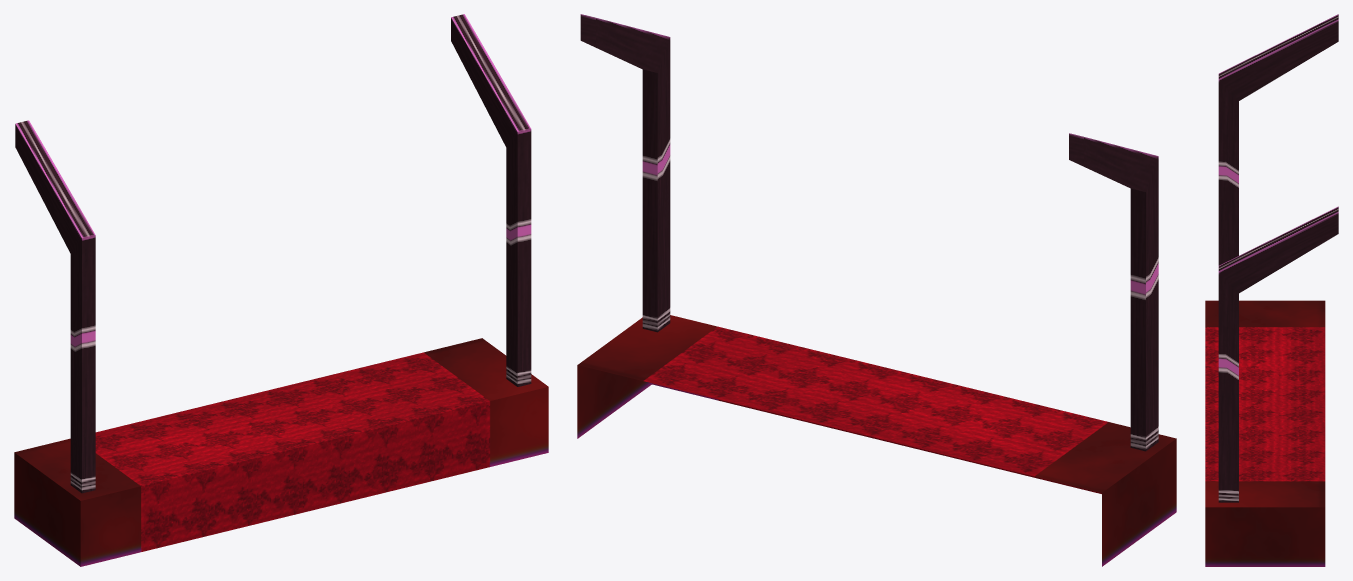
Rendered from Stair.FBX.
3 renders of one model, left to right at view 1: azimuth 30°, elevation 25°; view 2: azimuth 150°, elevation 25°; view 3: azimuth 270°, elevation 25°, orthographic. The views are drawn at different scales.
Visible parts, largest first — view 1: Stairs; view 2: Stairs; view 3: Stairs.
Part boxes in pixels (box(x1,y1,x2,y2)): Stairs: box(14, 14, 548, 566); Stairs: box(577, 14, 1176, 566); Stairs: box(1205, 14, 1338, 566).
Bounding box in the file's own units: 202 × 160 × 55.31.
